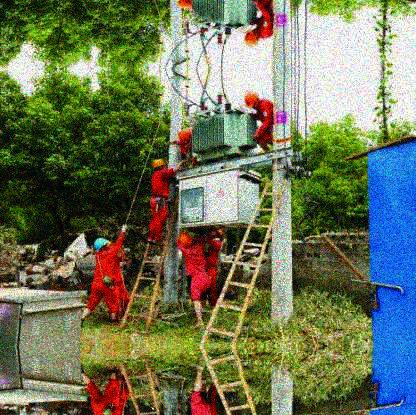helmet: (243, 27, 261, 49), (246, 90, 260, 110), (94, 237, 109, 253), (153, 158, 166, 170)
